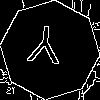Y: (25, 25, 63, 74)
